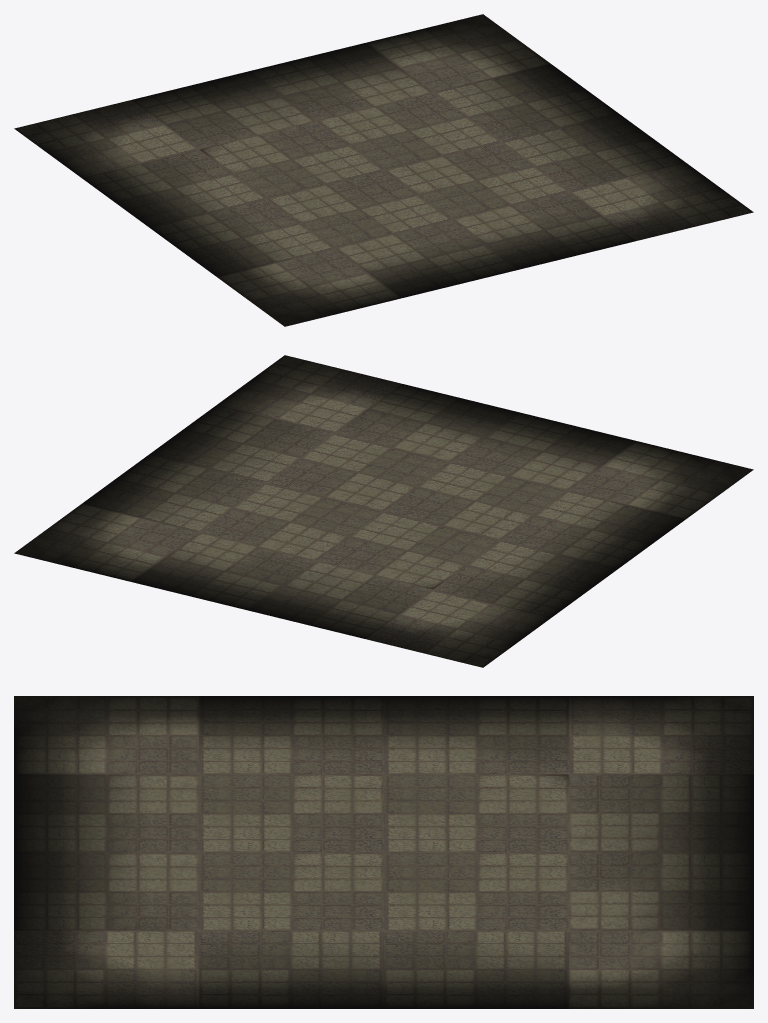
Rendered from floor4x4.obj.
3 views of the same model, one above another, from view 1: azimuth 30°, elevation 25°; view 2: azimuth 150°, elevation 25°; view 3: azimuth 270°, elevation 25° (orthographic). The views are drawn at different scales.
Parts seen in each view (by area): view 1: floor4x4; view 2: floor4x4; view 3: floor4x4.
Part boxes in pixels (x1,y1,x2,y2): floor4x4: [14, 14, 753, 326]; floor4x4: [14, 355, 753, 667]; floor4x4: [14, 696, 753, 1008].
Bounding box in the file's own units: 8 × 0 × 8.
